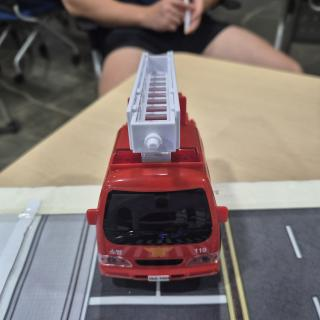Fire_truck: (87, 52, 228, 282)
